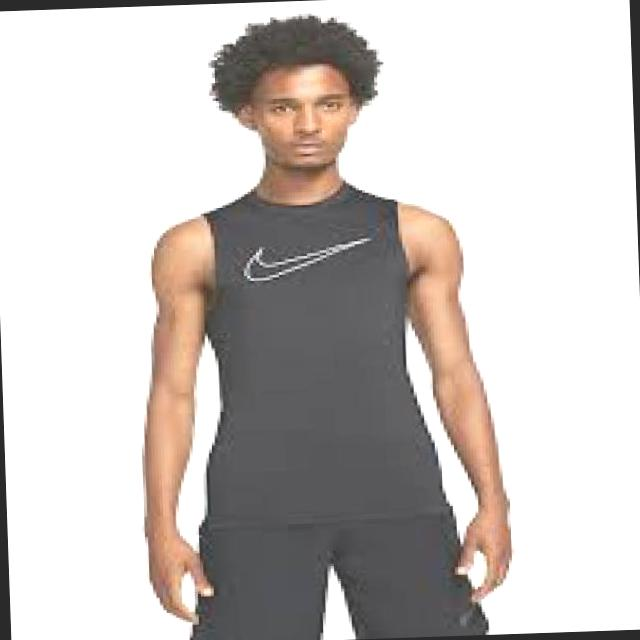no_vest: (193, 177, 460, 526)
